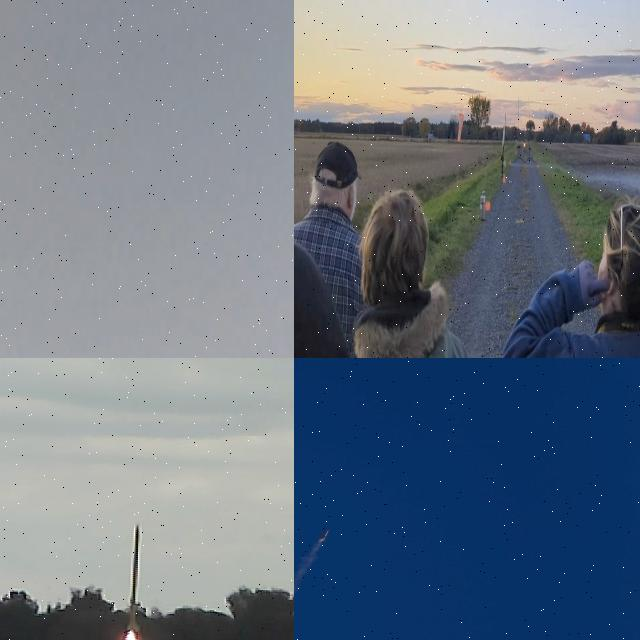Rocket: (126, 524, 143, 632), (316, 529, 329, 542), (501, 126, 505, 162)
